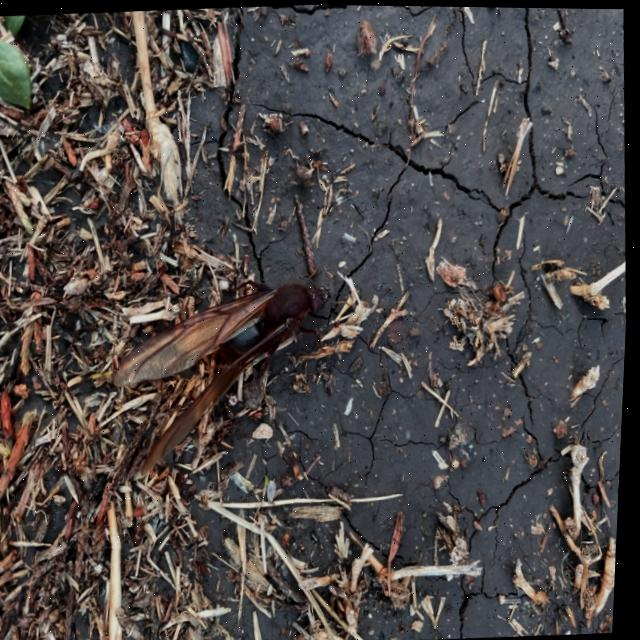Alive-Female-Alate: (107, 261, 363, 480)
